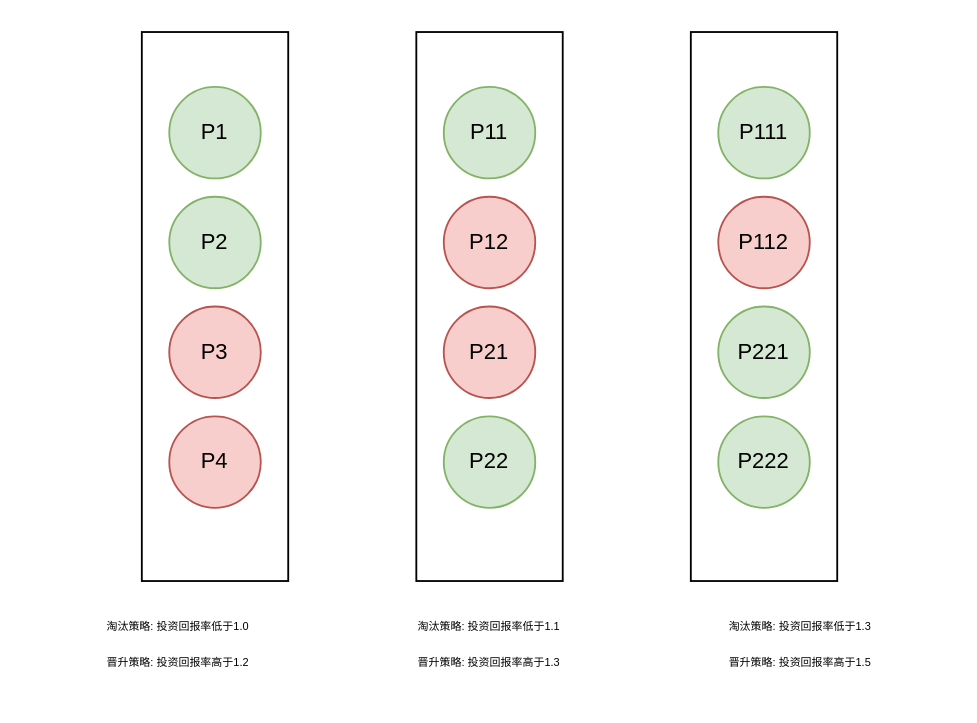
This 977x723 diagram has some shape labels left out. The box of each missing label's shape, as (x1, y1, x2, y2) in pixels:
第一代: (140, 30, 288, 581)
第三代: (689, 30, 837, 581)
第二代: (414, 30, 563, 581)
